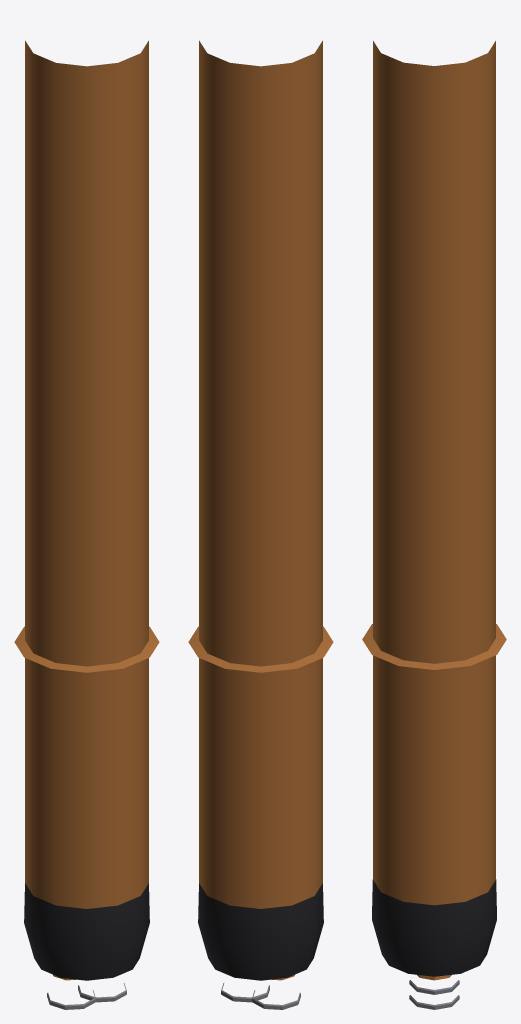
Rendered from ccb.lo.glb.
3 renders of one model, left to right at view 1: azimuth 30°, elevation 25°; view 2: azimuth 150°, elevation 25°; view 3: azimuth 270°, elevation 25°, orthographic.
Parts seen in each view (by area): view 1: ccb.hull, ccb.dark, ccb.metal; view 2: ccb.hull, ccb.dark, ccb.metal; view 3: ccb.hull, ccb.dark, ccb.metal.
Part boxes in pixels (bbox=[...]): ccb.hull: bbox=[14, 40, 159, 908]; ccb.dark: bbox=[24, 883, 149, 980]; ccb.metal: bbox=[47, 983, 126, 1009]; ccb.hull: bbox=[188, 40, 333, 908]; ccb.dark: bbox=[198, 883, 323, 980]; ccb.metal: bbox=[221, 983, 300, 1009]; ccb.hull: bbox=[362, 41, 506, 905]; ccb.dark: bbox=[372, 879, 496, 976]; ccb.metal: bbox=[409, 980, 459, 1009].
Size of the model in its own units: 4.48 by 32.53 by 4.48.
